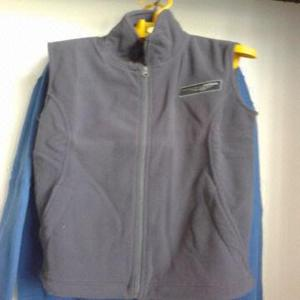C_vest: (26, 4, 267, 300)
